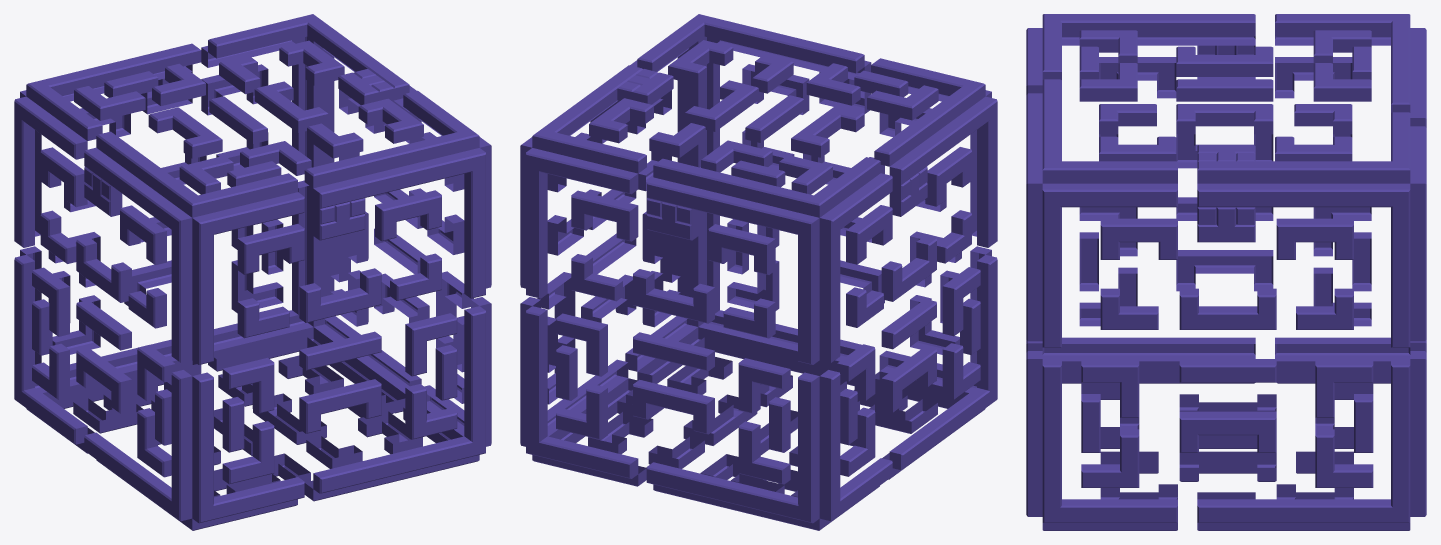
File: P1L2_update.fbx
The picture shows the model from 3 angles, left to right: view 1: azimuth 30°, elevation 25°; view 2: azimuth 150°, elevation 25°; view 3: azimuth 270°, elevation 25°; orthographic projection. The views are drawn at different scales.
Visible parts, largest first — view 1: polySurface740 (×4), polySurface732 (×4), polySurface738 (×4), polySurface721 (×4), polySurface747 (×4), polySurface720 (×4), polySurface746 (×4), polySurface719 (×4), polySurface725 (×3), polySurface717 (×3), polySurface741 (×3), polySurface727 (×3) (+21 smaller); view 2: polySurface740 (×4), polySurface732 (×4), polySurface729 (×4), polySurface749 (×4), polySurface718 (×4), polySurface717 (×4), polySurface744 (×3), polySurface725 (×3), polySurface746 (×3), polySurface719 (×3), polySurface739 (×3), polySurface723 (×3) (+21 smaller); view 3: polySurface740 (×4), polySurface732 (×3), polySurface616 (×3), polySurface731 (×4), polySurface733 (×4), polySurface736 (×3), polySurface718 (×3), polySurface720 (×3), polySurface730 (×3), polySurface724 (×3), polySurface739 (×3), polySurface747 (×3) (+60 smaller).
Boxes of the visible parts, box(x1,y1,x2,y2) form: polySurface740 (×4): box(83, 112, 368, 414); polySurface732 (×4): box(83, 90, 368, 438); polySurface738 (×4): box(49, 91, 274, 462); polySurface721 (×4): box(67, 60, 396, 437); polySurface747 (×4): box(171, 129, 485, 353); polySurface720 (×4): box(48, 64, 338, 464); polySurface746 (×4): box(137, 144, 426, 401); polySurface719 (×4): box(40, 210, 464, 468); polySurface725 (×3): box(84, 72, 379, 240); polySurface717 (×3): box(146, 132, 441, 328); polySurface741 (×3): box(111, 133, 381, 418); polySurface727 (×3): box(146, 118, 441, 265); polySurface740 (×4): box(646, 111, 929, 414); polySurface732 (×4): box(646, 89, 929, 439); polySurface729 (×4): box(615, 59, 945, 437); polySurface749 (×4): box(526, 129, 840, 353); polySurface718 (×4): box(672, 64, 964, 465); polySurface717 (×4): box(547, 210, 971, 468); polySurface744 (×3): box(738, 90, 963, 462); polySurface725 (×3): box(632, 72, 927, 240); polySurface746 (×3): box(738, 79, 963, 413); polySurface719 (×3): box(571, 132, 866, 327); polySurface739 (×3): box(633, 132, 902, 419); polySurface723 (×3): box(571, 117, 866, 264); polySurface740 (×4): box(1194, 55, 1258, 435); polySurface732 (×3): box(1194, 104, 1258, 473); polySurface616 (×3): box(1060, 14, 1392, 522); polySurface731 (×4): box(1176, 104, 1276, 481); polySurface733 (×4): box(1179, 104, 1273, 481); polySurface736 (×3): box(1081, 79, 1371, 382); polySurface718 (×3): box(1116, 104, 1336, 473); polySurface720 (×3): box(1118, 104, 1334, 473); polySurface730 (×3): box(1116, 57, 1336, 242); polySurface724 (×3): box(1118, 57, 1334, 242); polySurface739 (×3): box(1179, 46, 1273, 452); polySurface747 (×3): box(1026, 152, 1410, 225).
Bounding box in the file's own units: 6203 × 6203 × 6203.
